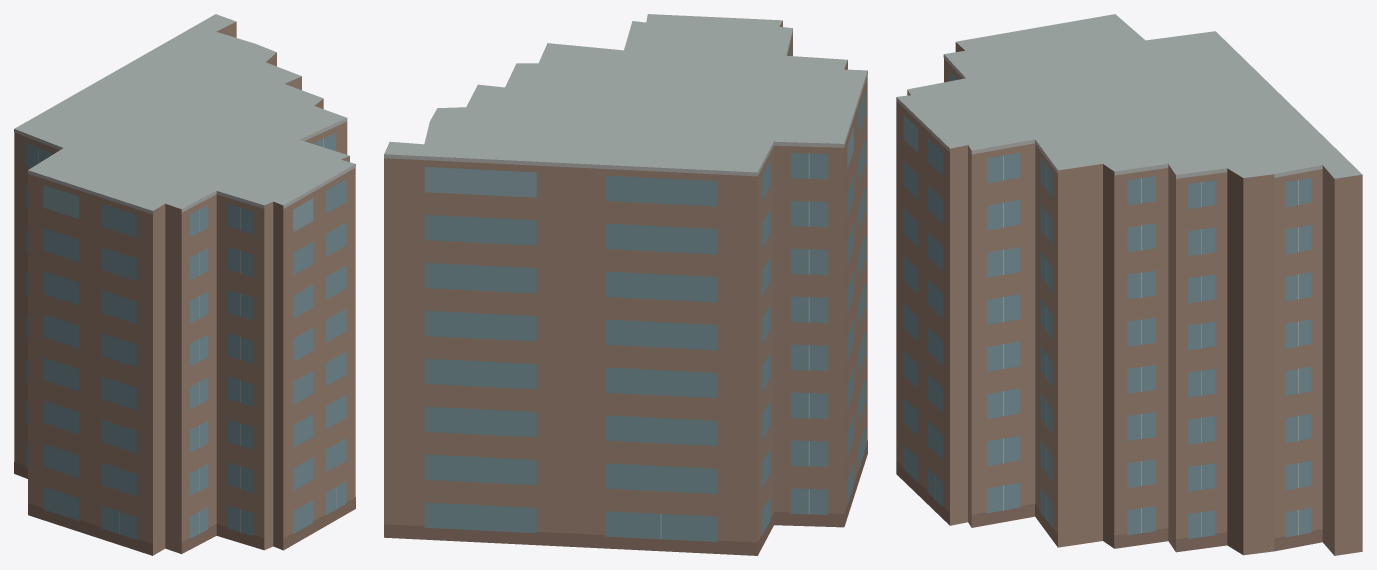
File: survey-upis-32497884.glb
3 views of the same model, side by side, from view 1: azimuth 30°, elevation 25°; view 2: azimuth 150°, elevation 25°; view 3: azimuth 270°, elevation 25° (orthographic). The views are drawn at different scales.
Visible parts, largest first — view 1: survey-upis-32497884.tmp; view 2: survey-upis-32497884.tmp; view 3: survey-upis-32497884.tmp.
Boxes of the visible parts, x1,y1,x2,y2 form: survey-upis-32497884.tmp: (14, 14, 355, 555); survey-upis-32497884.tmp: (384, 14, 867, 555); survey-upis-32497884.tmp: (896, 14, 1362, 555).
Size of the model in its own units: 22.4 by 23.9 by 26.79.
